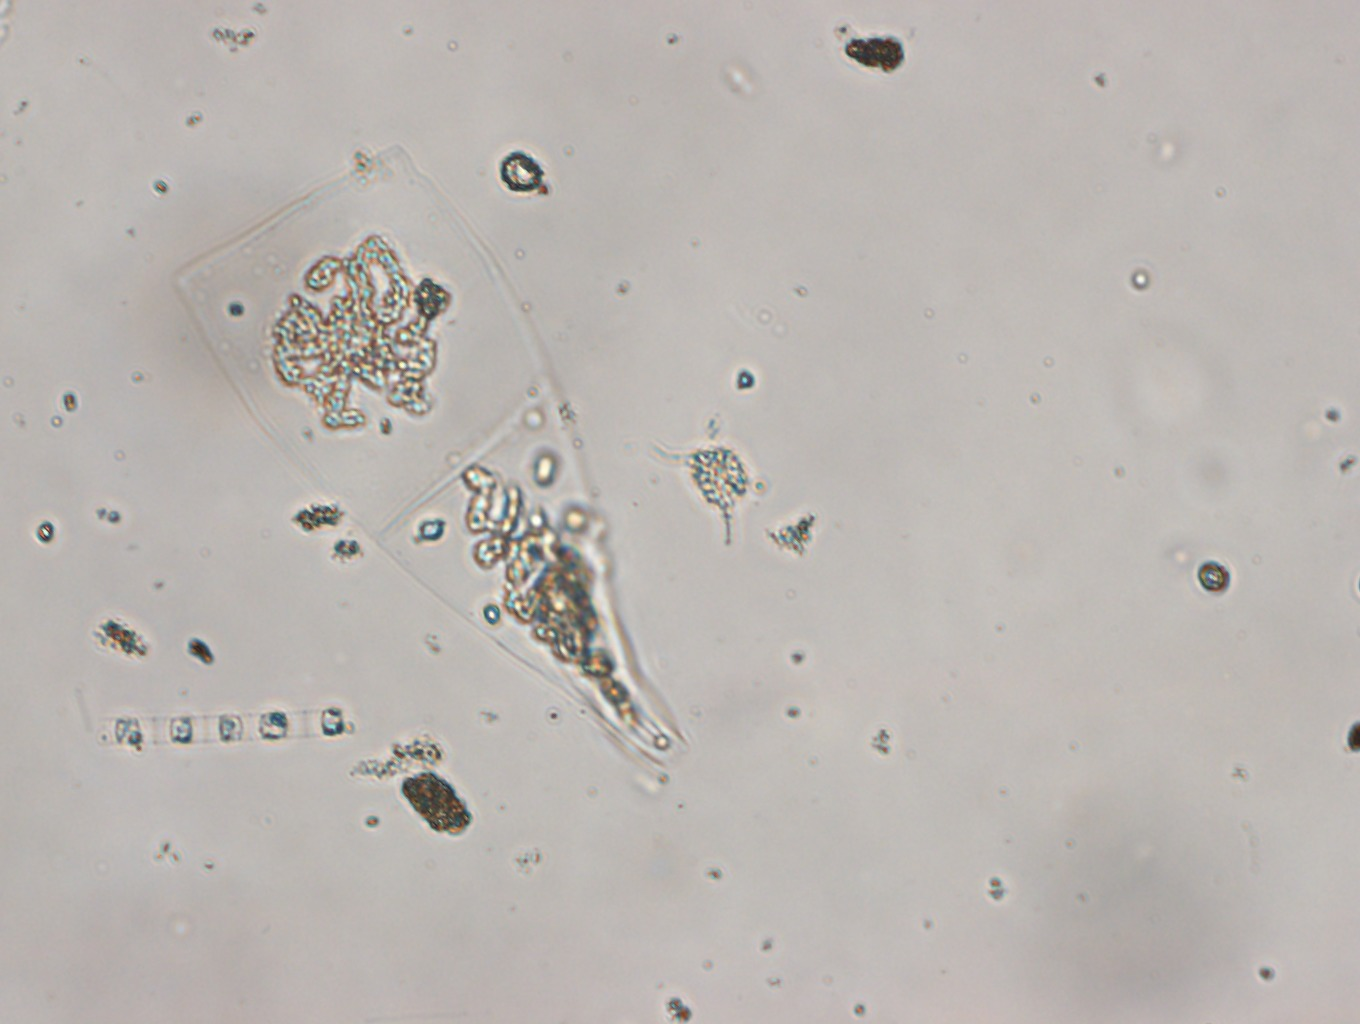helicotheca: (157, 140, 714, 776)
skeletonema: (77, 693, 370, 766)
